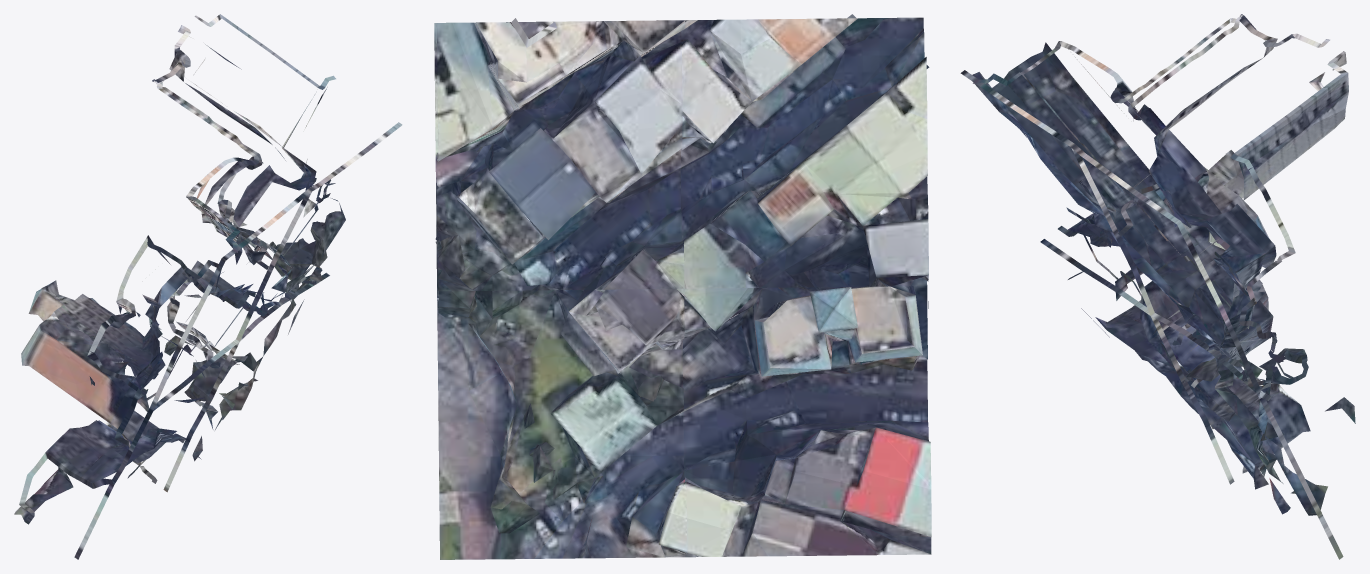
3 renders of one model, left to right at view 1: azimuth 30°, elevation 25°; view 2: azimuth 150°, elevation 25°; view 3: azimuth 270°, elevation 25°, orthographic. The views are drawn at different scales.
Size of the model in its own units: 82.96 by 88.06 by 65.67.
2 materials, 2 textured.
